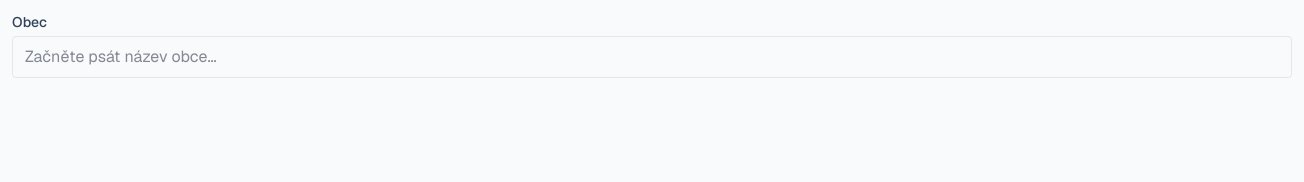
Test case: MunicipalityAutocomplete › selecting a match stores the real code (never free text)
Step 1. Type "Plz" into the dropdown → coordinates (652, 57), box [12,36,1292,78]
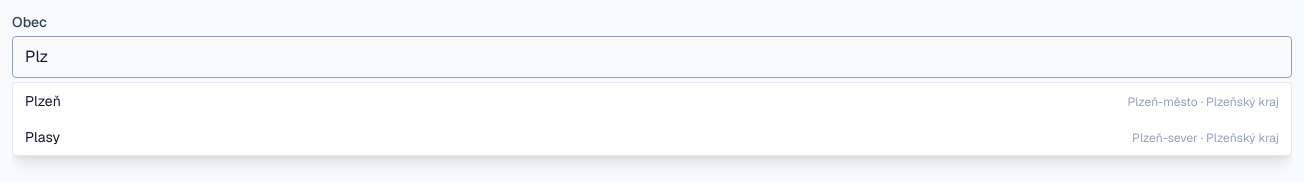
Check: the text "Plzeň" is shown
Click the "Plzeň" option (via its visible name span → the option button).
Step 2. Click the text "Plzeň" → coordinates (43, 101), box [25,91,61,111]
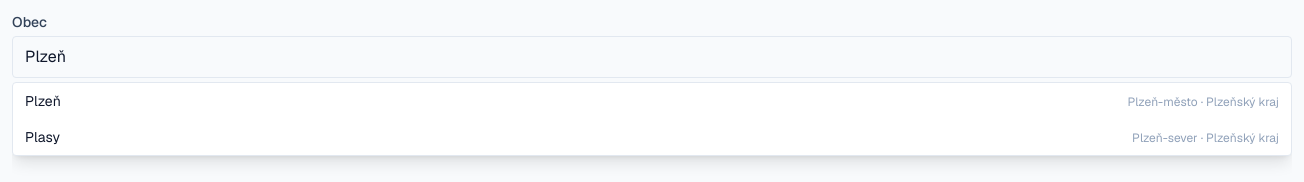
Check: the dropdown holds "Plzeň", box [12,36,1292,78]
